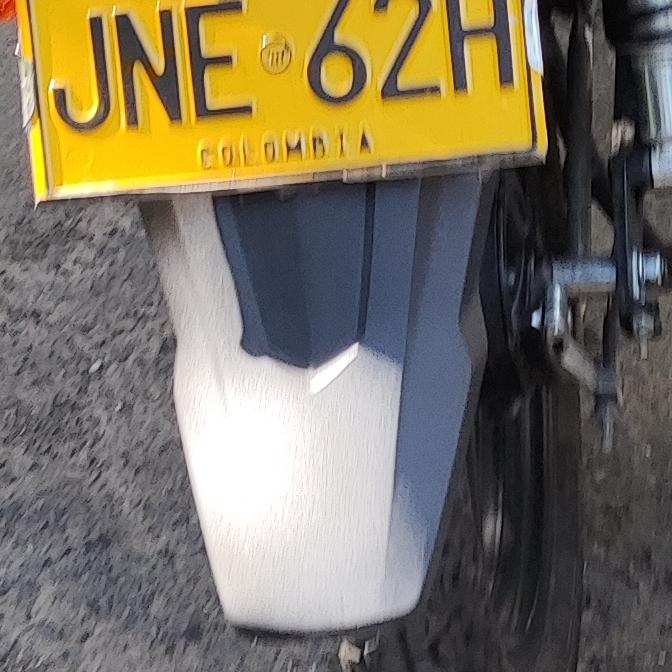plates: (10, 0, 552, 206)
